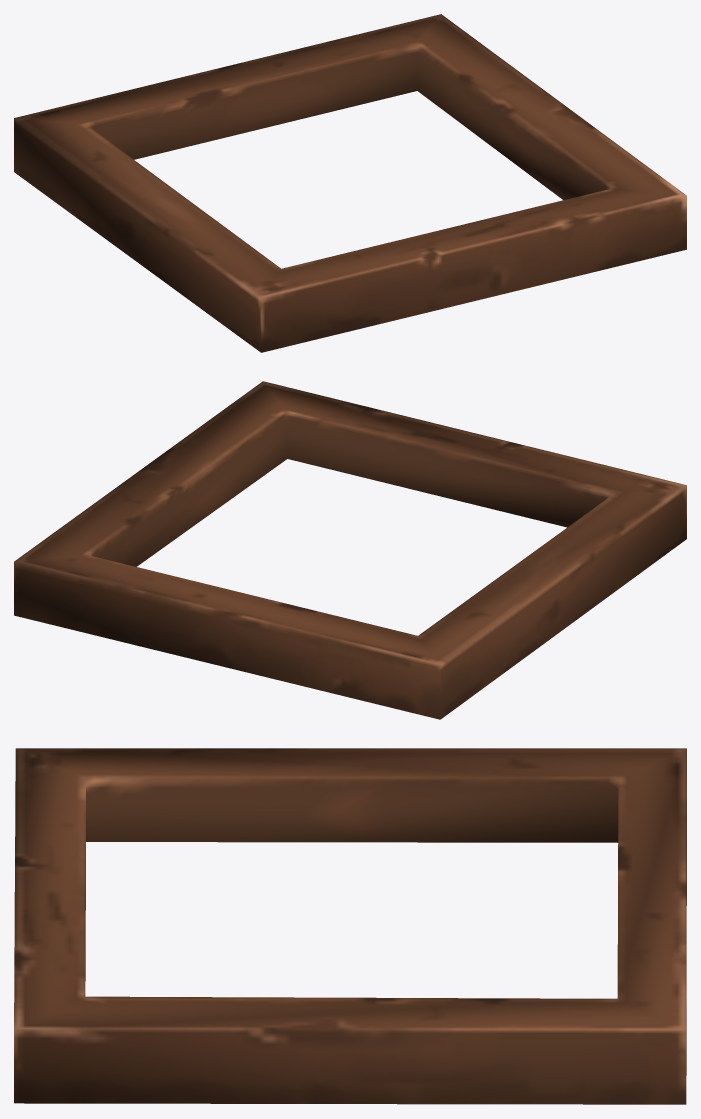
The model's file is sn_jiguan_tielong_001.FBX.
3 views of the same model, one above another, from view 1: azimuth 30°, elevation 25°; view 2: azimuth 150°, elevation 25°; view 3: azimuth 270°, elevation 25° (orthographic). The views are drawn at different scales.
Parts seen in each view (by area): view 1: sn_jiguan_tielong_001; view 2: sn_jiguan_tielong_001; view 3: sn_jiguan_tielong_001.
Part boxes in pixels (x1,y1,x2,y2): sn_jiguan_tielong_001: [14, 14, 686, 352]; sn_jiguan_tielong_001: [14, 381, 686, 719]; sn_jiguan_tielong_001: [14, 748, 686, 1104].
Size of the model in its own units: 367 by 44.22 by 368.
